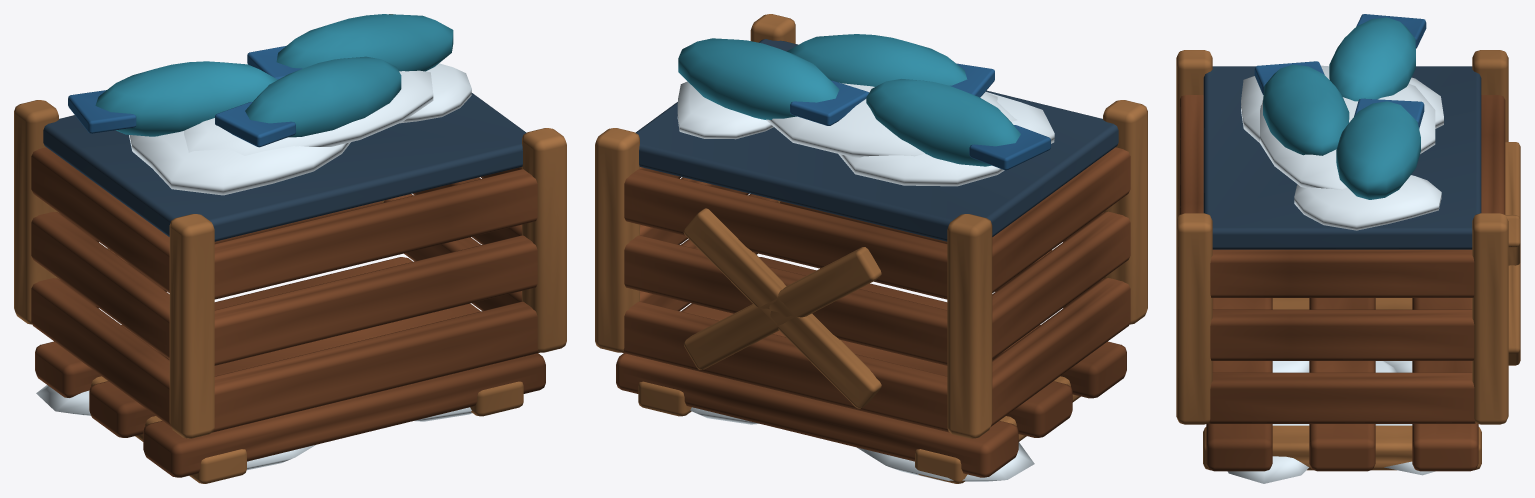
Rendered from fish_crate.glb.
3 views of the same model, side by side, from view 1: azimuth 30°, elevation 25°; view 2: azimuth 150°, elevation 25°; view 3: azimuth 270°, elevation 25° (orthographic). The views are drawn at different scales.
Visible parts, largest first — view 1: fish_crate; view 2: fish_crate; view 3: fish_crate.
Boxes of the visible parts, x1,y1,x2,y2 form: fish_crate: [14, 14, 566, 483]; fish_crate: [595, 14, 1147, 483]; fish_crate: [1176, 14, 1520, 483].
Bounding box in the file's own units: 1.45 × 1.21 × 1.14.
